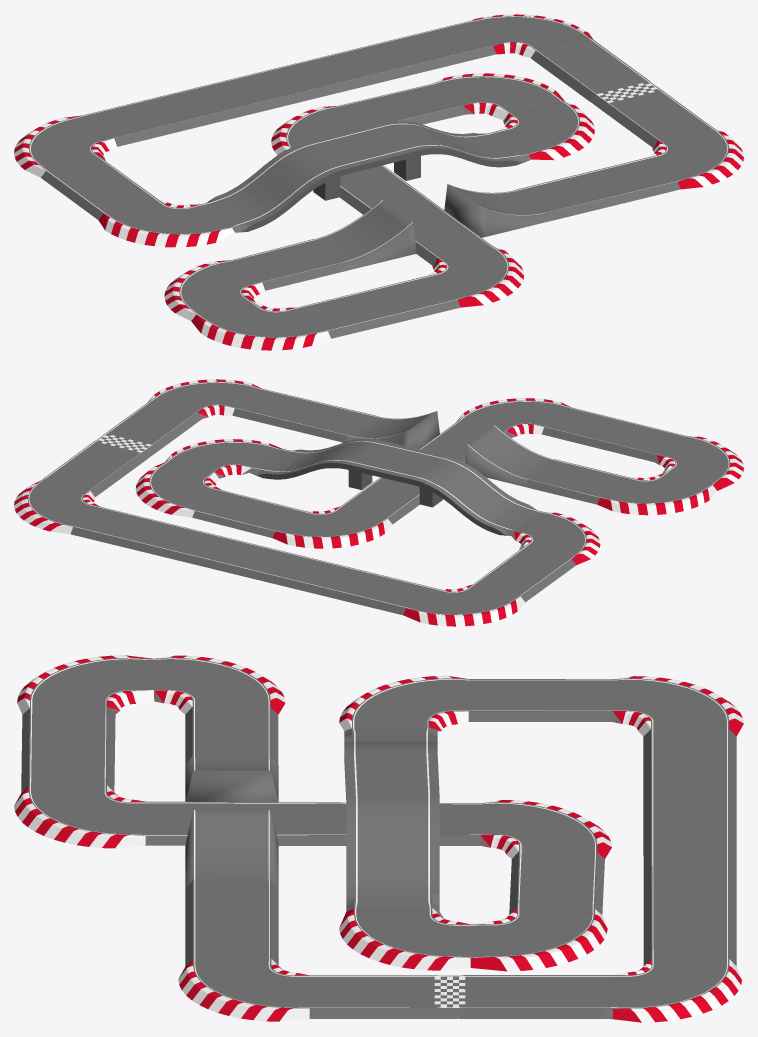
The model's file is Track.fbx.
The picture shows the model from 3 angles, top to bottom: view 1: azimuth 30°, elevation 25°; view 2: azimuth 150°, elevation 25°; view 3: azimuth 270°, elevation 25°; orthographic projection. The views are drawn at different scales.
Parts seen in each view (by area): view 1: Track; view 2: Track; view 3: Track.
Boxes of the visible parts, x1=… form: Track: x1=14, y1=14, x2=743, y2=350; Track: x1=14, y1=379, x2=743, y2=626; Track: x1=14, y1=655, x2=743, y2=1022.
Size of the model in its own units: 111 by 7.09 by 93.96.
